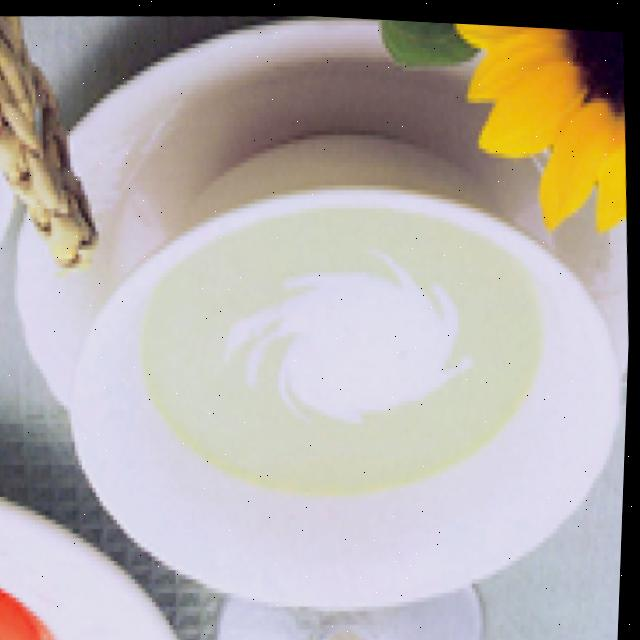汤锅炖物: (53, 156, 636, 628)
